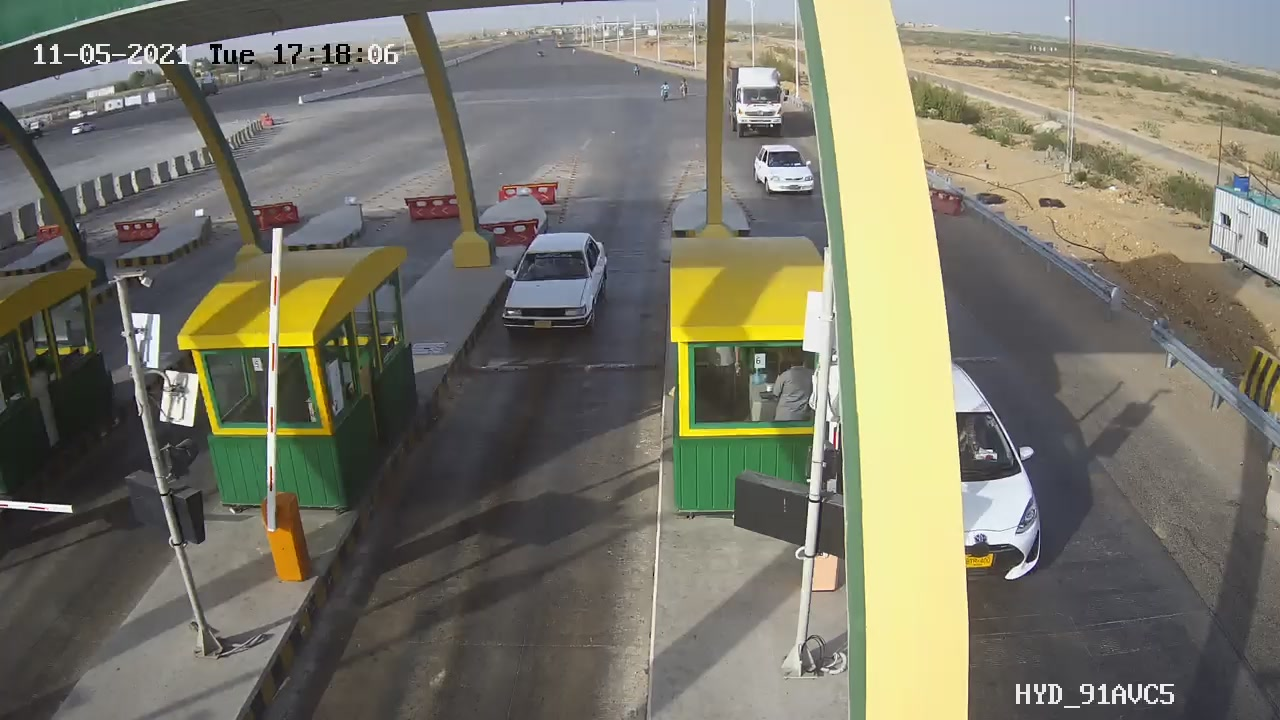F1: (487, 214, 625, 349)
